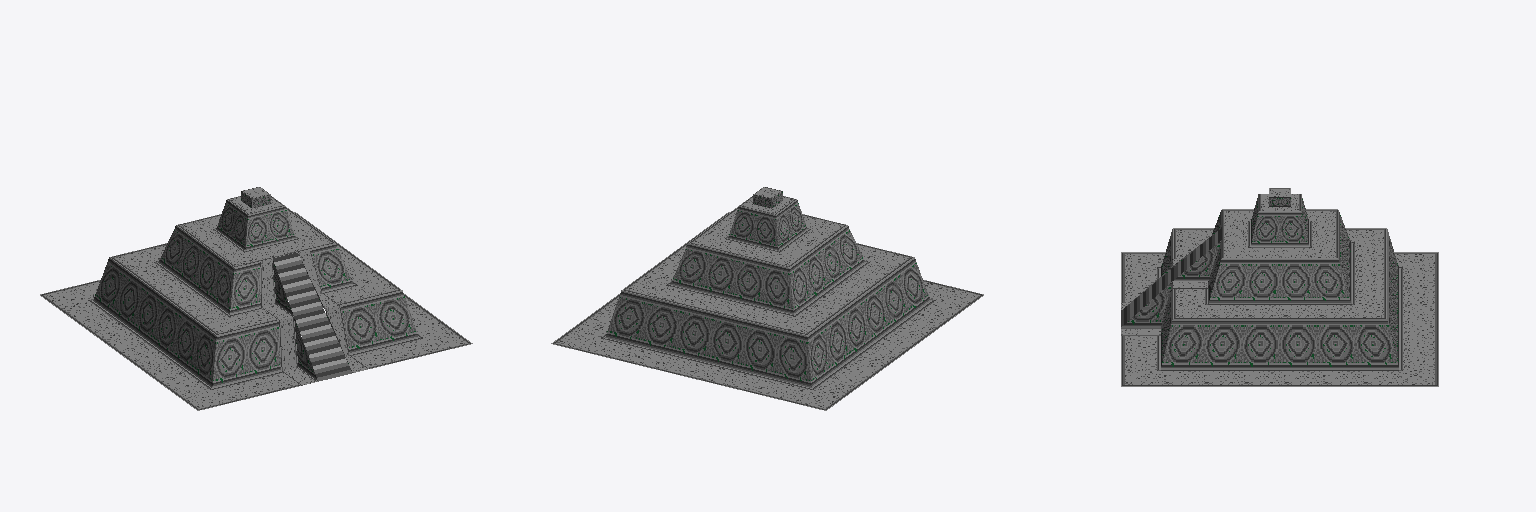
3 views of the same model, side by side, from view 1: azimuth 30°, elevation 25°; view 2: azimuth 150°, elevation 25°; view 3: azimuth 270°, elevation 25° (orthographic).
Parts seen in each view (by area): view 1: Plane; view 2: Plane; view 3: Plane.
Part boxes in pixels (left/top/right/bottom): Plane: left=40, top=187, right=472, bottom=410; Plane: left=551, top=187, right=983, bottom=410; Plane: left=1121, top=188, right=1438, bottom=386.
Bounding box in the file's own units: 4 × 1.76 × 4.
6 materials, 4 textured.